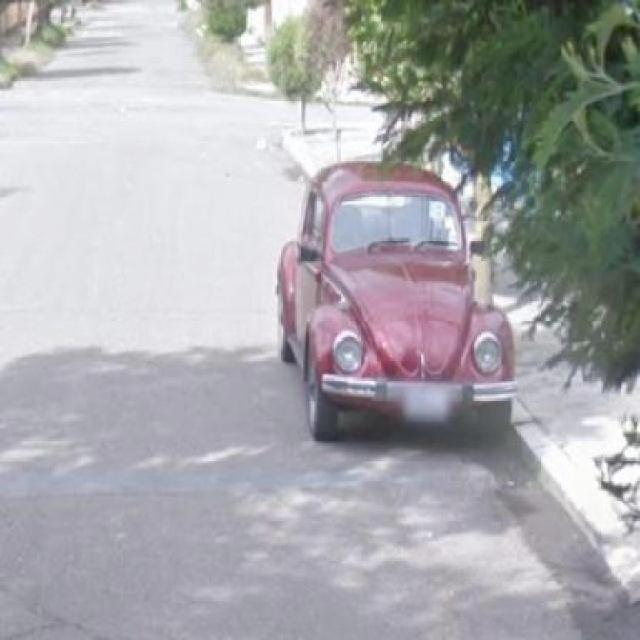car: (268, 165, 527, 448)
